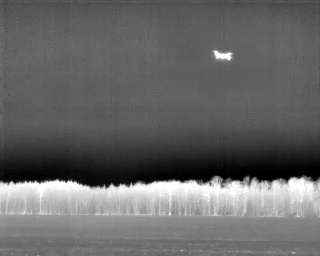DRONE: (208, 45, 237, 67)
